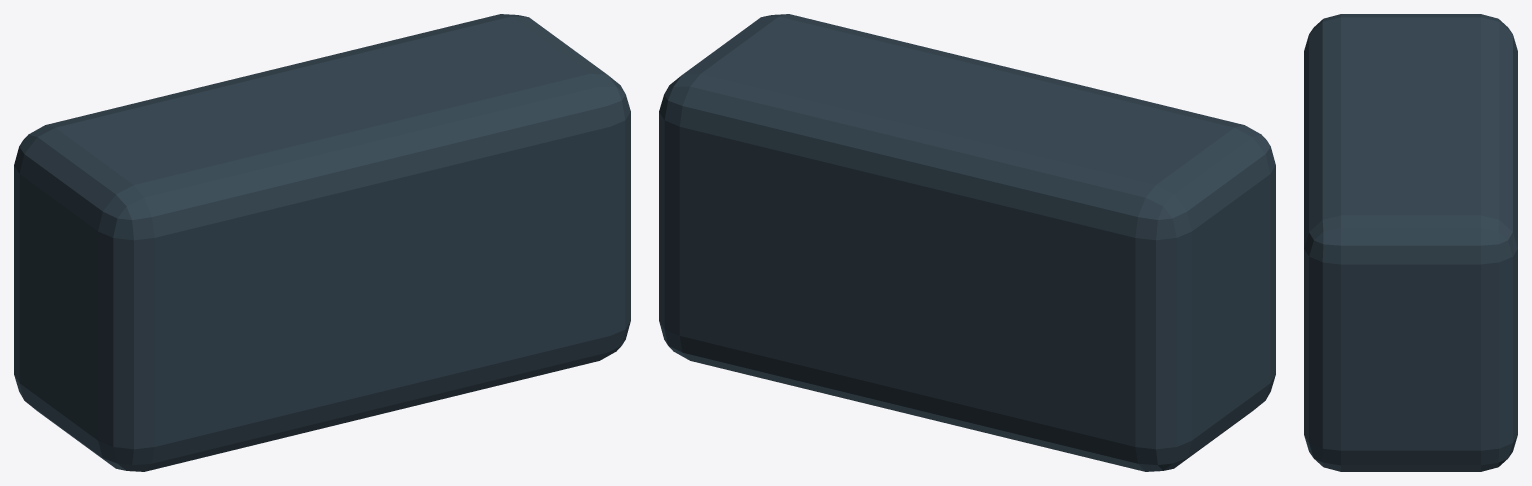
File: SM_RangePracticeTarget_Plate.glb
The picture shows the model from 3 angles, left to right: view 1: azimuth 30°, elevation 25°; view 2: azimuth 150°, elevation 25°; view 3: azimuth 270°, elevation 25°; orthographic projection. The views are drawn at different scales.
Parts seen in each view (by area): view 1: SM_RangePracticeTarget_Plate; view 2: SM_RangePracticeTarget_Plate; view 3: SM_RangePracticeTarget_Plate.
Part boxes in pixels (x1,y1,x2,y2): SM_RangePracticeTarget_Plate: (14, 14, 630, 471); SM_RangePracticeTarget_Plate: (659, 14, 1275, 471); SM_RangePracticeTarget_Plate: (1304, 14, 1517, 471).
Bounding box in the file's own units: 0.66 × 0.34 × 0.26.
